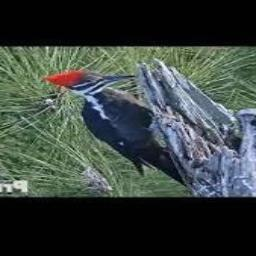Woodpecker: (44, 70, 191, 189)
